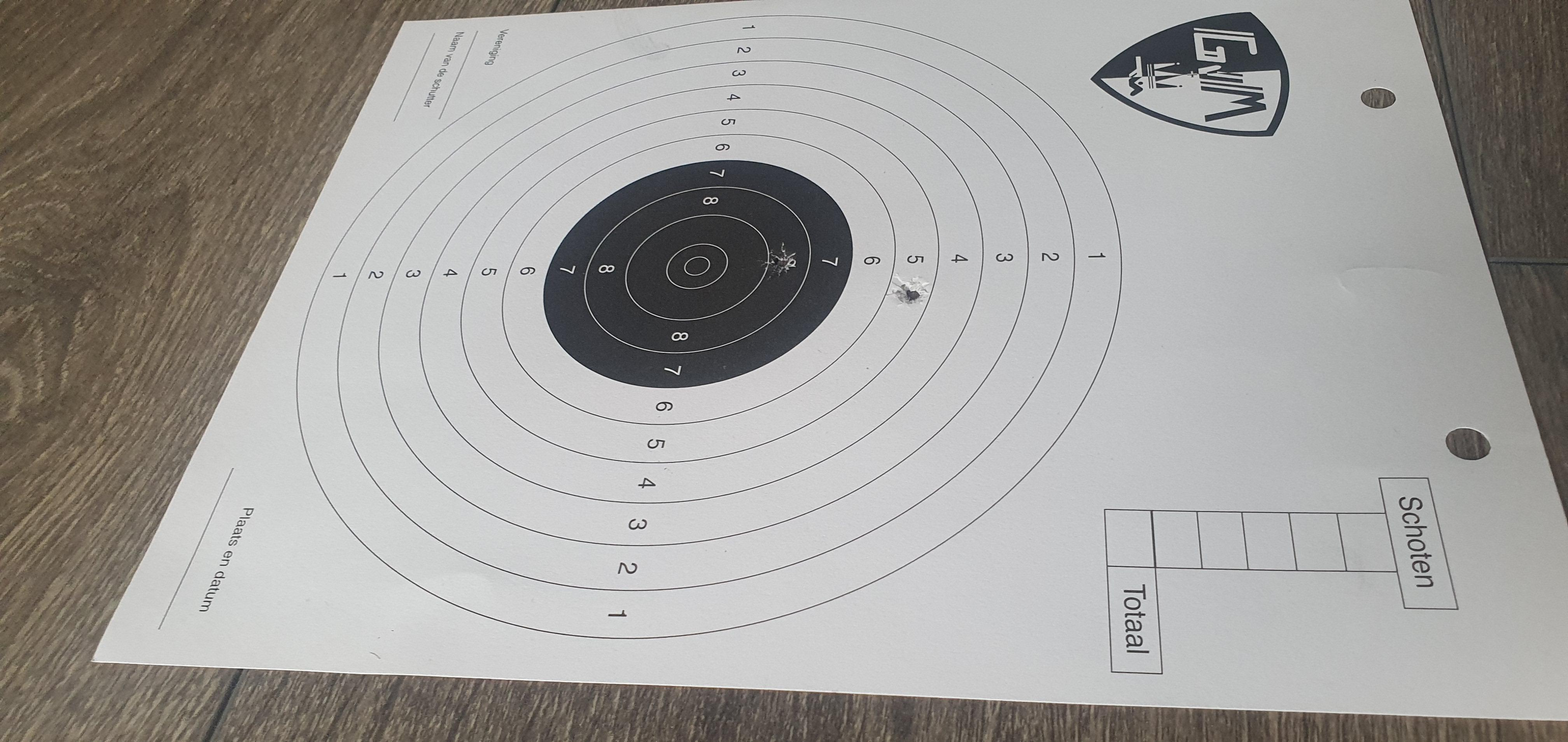hole: (887, 273, 932, 310), (761, 244, 797, 276)
